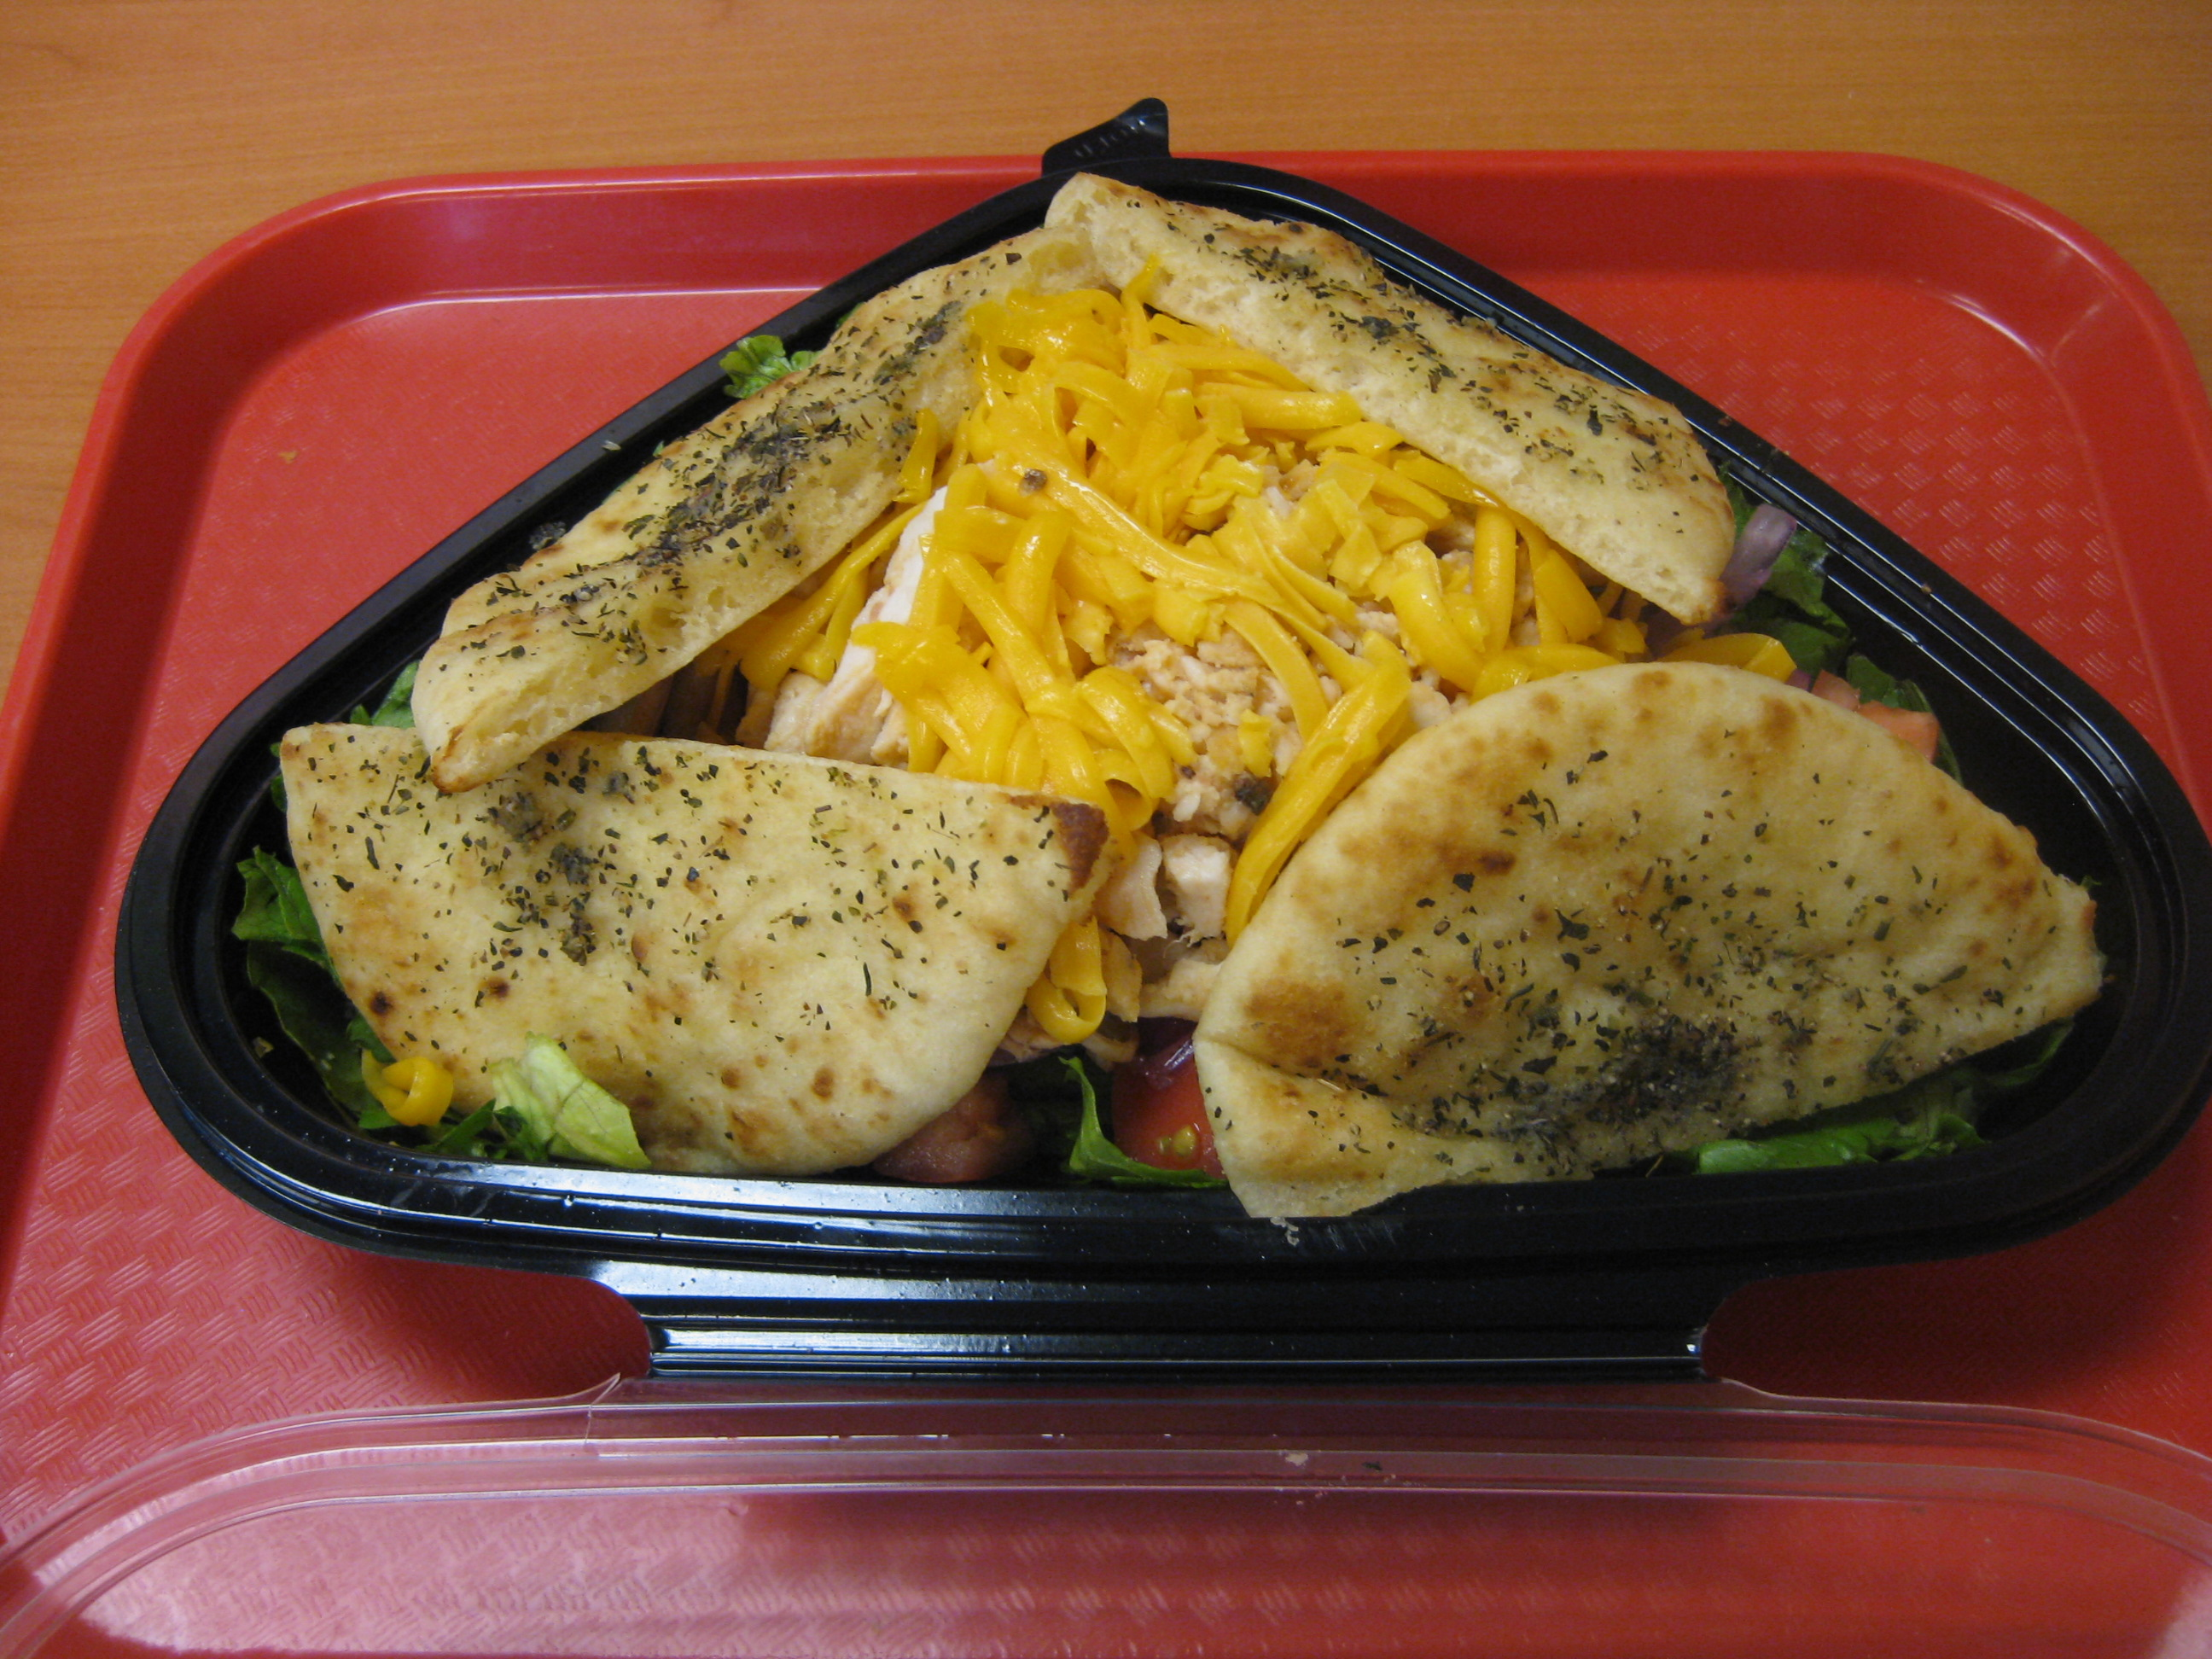salad: (260, 160, 2123, 1238)
